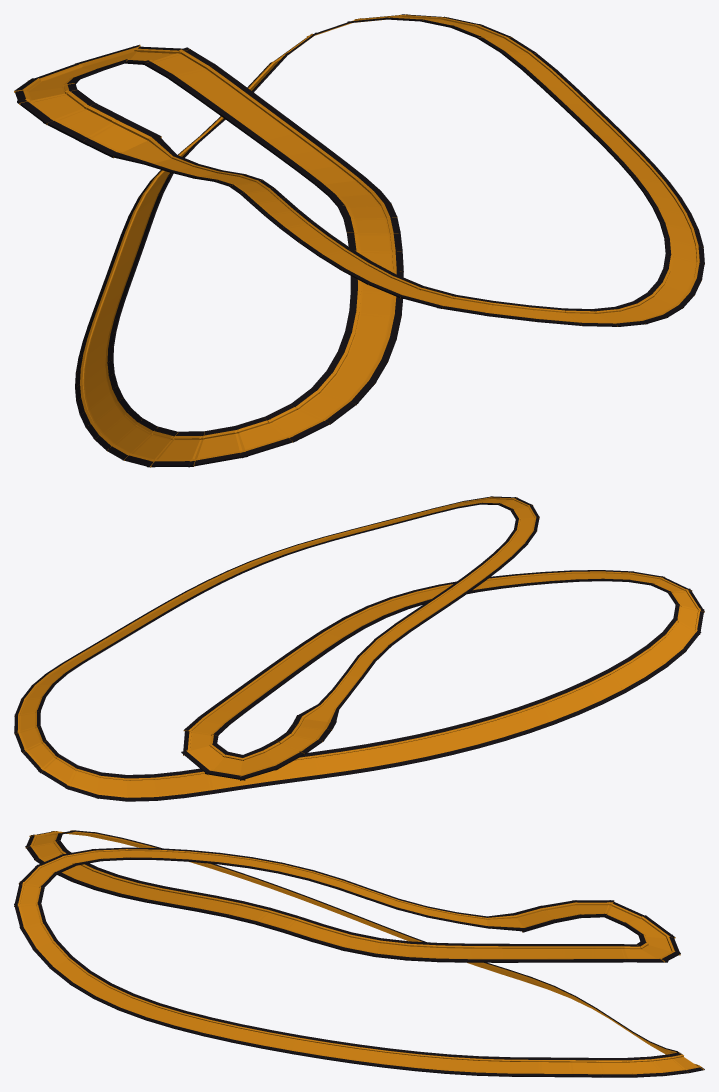
File: track 2.obj
3 views of the same model, one above another, from view 1: azimuth 30°, elevation 25°; view 2: azimuth 150°, elevation 25°; view 3: azimuth 270°, elevation 25° (orthographic). The views are drawn at different scales.
Visible parts, largest first — view 1: Plane.001; view 2: Plane.001; view 3: Plane.001.
Boxes of the visible parts, x1,y1,x2,y2 form: Plane.001: (14,14,704,467); Plane.001: (14,496,704,801); Plane.001: (14,830,704,1077).
Bounding box in the file's own units: 33.39 × 8.29 × 40.21.
